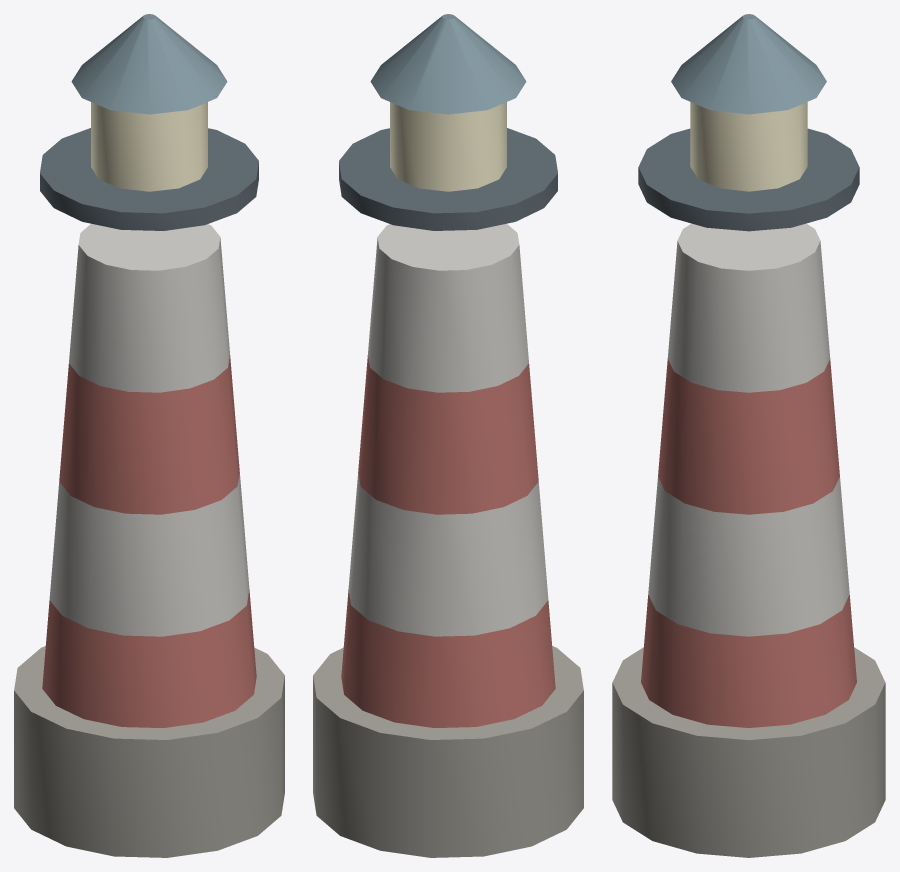
The model's file is lighthouse.glb.
The picture shows the model from 3 angles, left to right: view 1: azimuth 30°, elevation 25°; view 2: azimuth 150°, elevation 25°; view 3: azimuth 270°, elevation 25°; orthographic projection.
Visible parts, largest first — view 1: lighthouse_Palette, lighthouse_Glow; view 2: lighthouse_Palette, lighthouse_Glow; view 3: lighthouse_Palette, lighthouse_Glow.
Boxes of the visible parts, <box> form: lighthouse_Palette: <box>14,14,284,857</box>; lighthouse_Glow: <box>91,102,207,191</box>; lighthouse_Palette: <box>313,14,583,857</box>; lighthouse_Glow: <box>390,102,506,191</box>; lighthouse_Palette: <box>612,14,885,857</box>; lighthouse_Glow: <box>690,102,807,191</box>.
Bounding box in the file's own units: 0.84 × 2.66 × 0.84.
